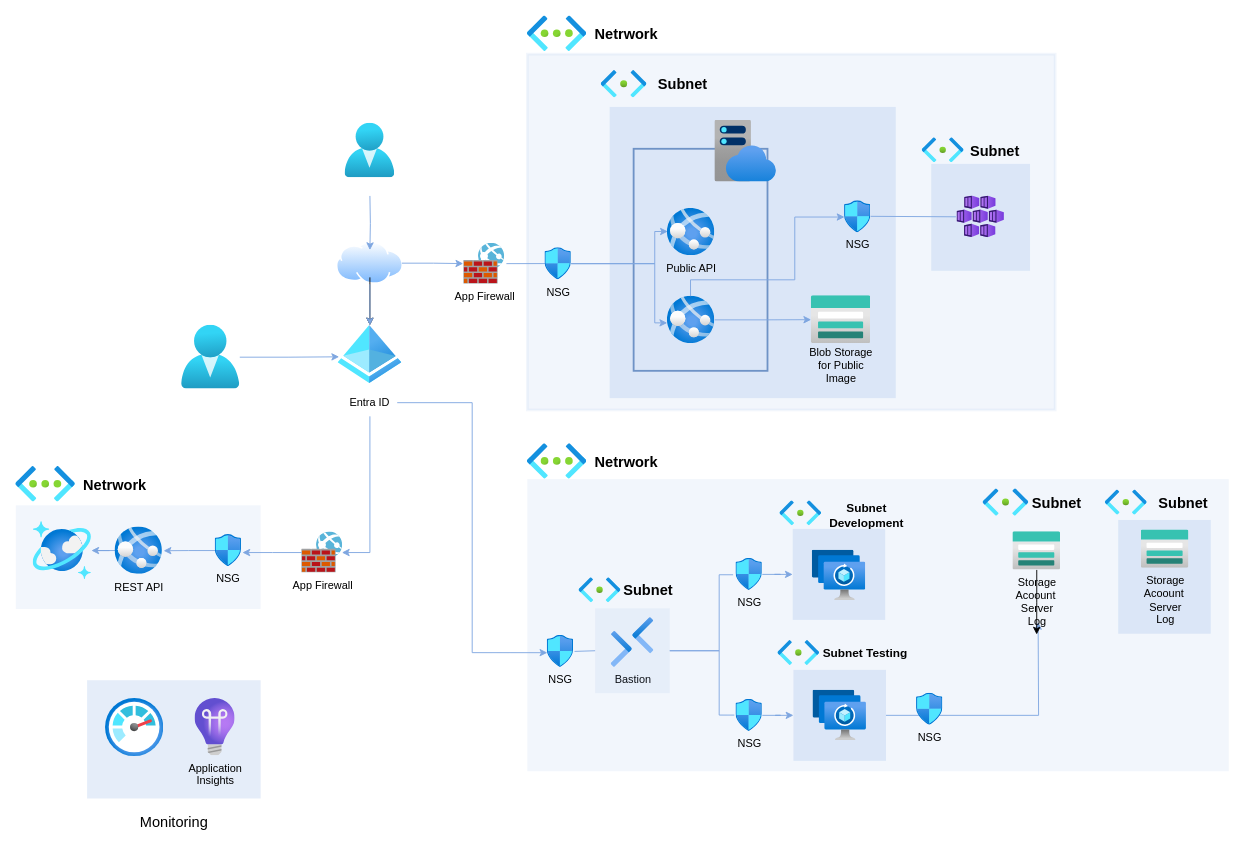
The diagram is 1244 pixels wide and 852 high, and some of its shapes have lost their labels. Each missing label, with the centre of its shape:
"Azure Monitor" goes at (x=134, y=727).
"Azure Service Plan" goes at (x=745, y=151).
"CosmosDB" goes at (x=62, y=550).
"Internet" goes at (x=369, y=262).
"Kubernetes" goes at (x=980, y=216).
"User" goes at (x=369, y=150).
"Users on premise" goes at (x=210, y=357).
"Website" goes at (x=690, y=319).
